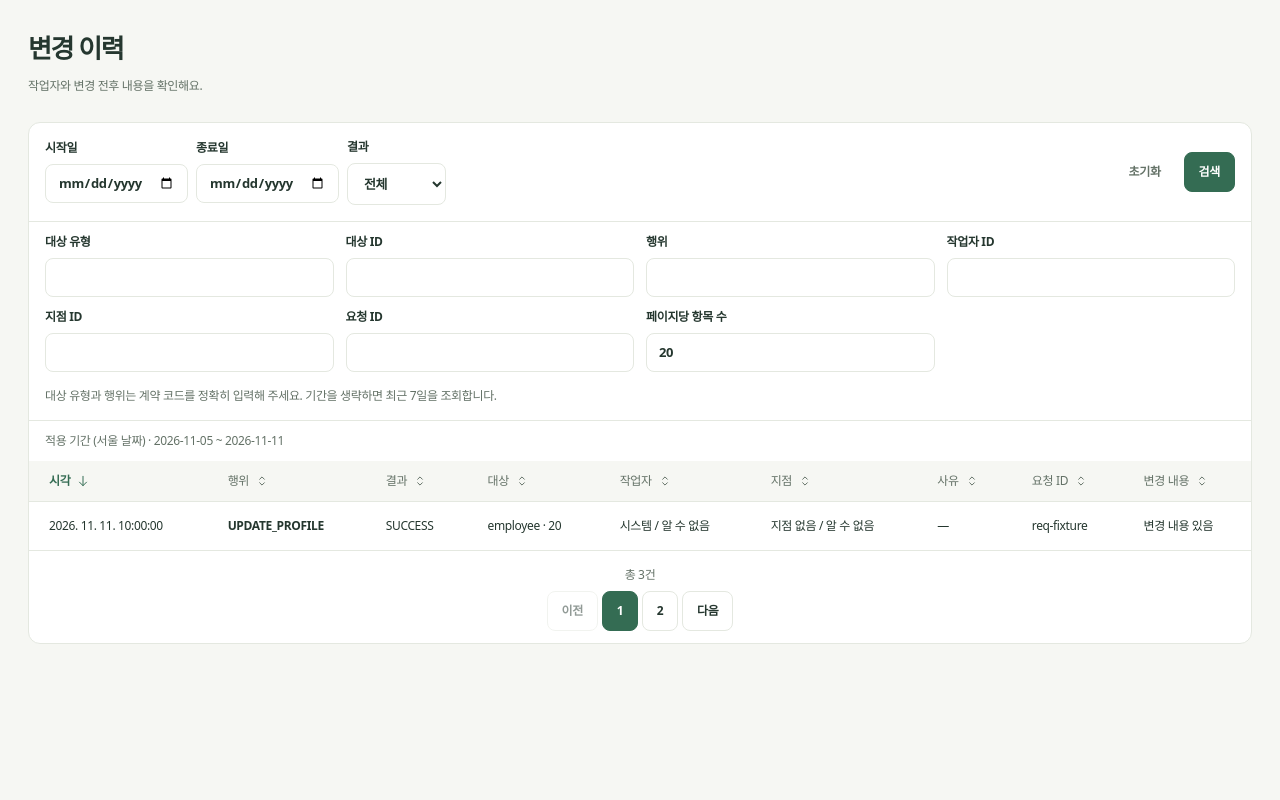
Test: validates long periods and dependent entity filters before sending a search
Expected: the text "변경 내용 있음" is shown, [1124,502,1251,550]
Type "2026-01-01" into the date field labelled "시작일" at (116, 184), box [45,164,188,203]
Type "2026-04-03" into the date field labelled "종료일" at (268, 184), box [196,164,339,203]
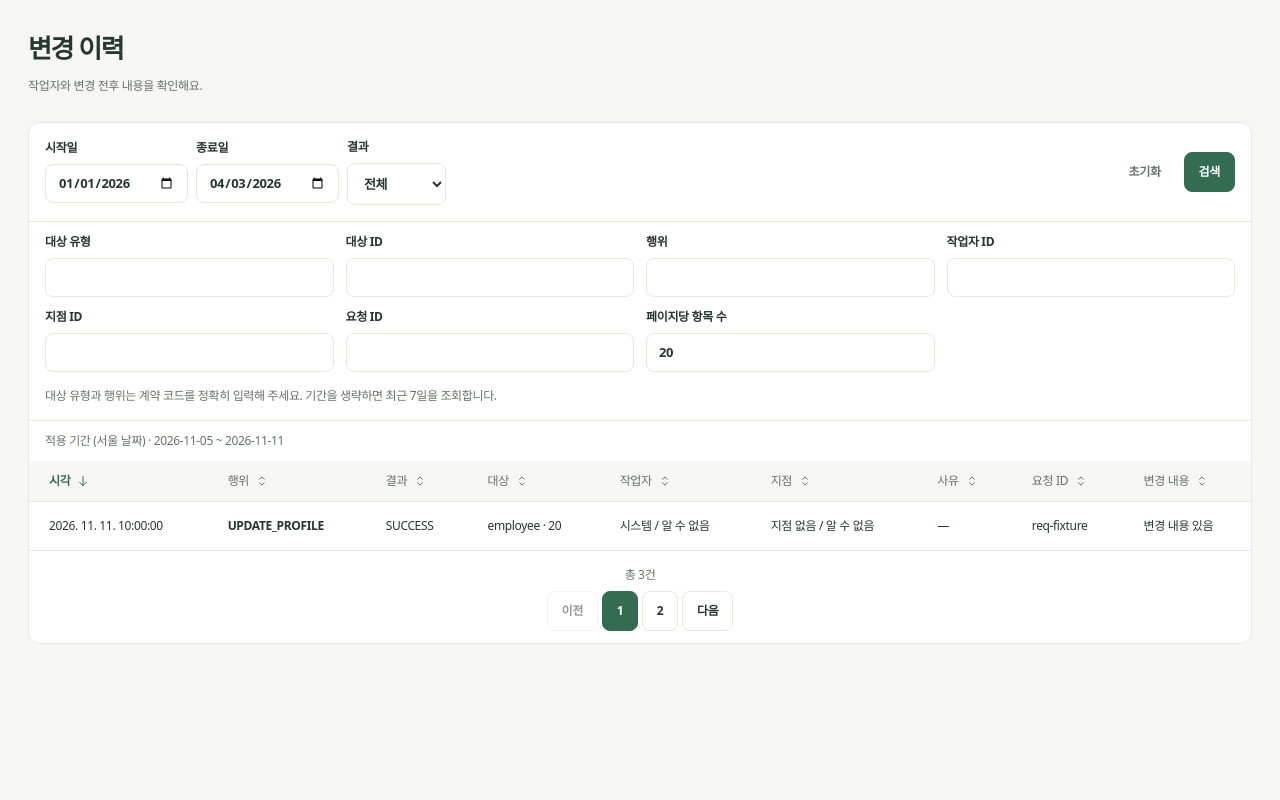
Click the button "검색" at (1209, 172), box [1184,152,1235,192]
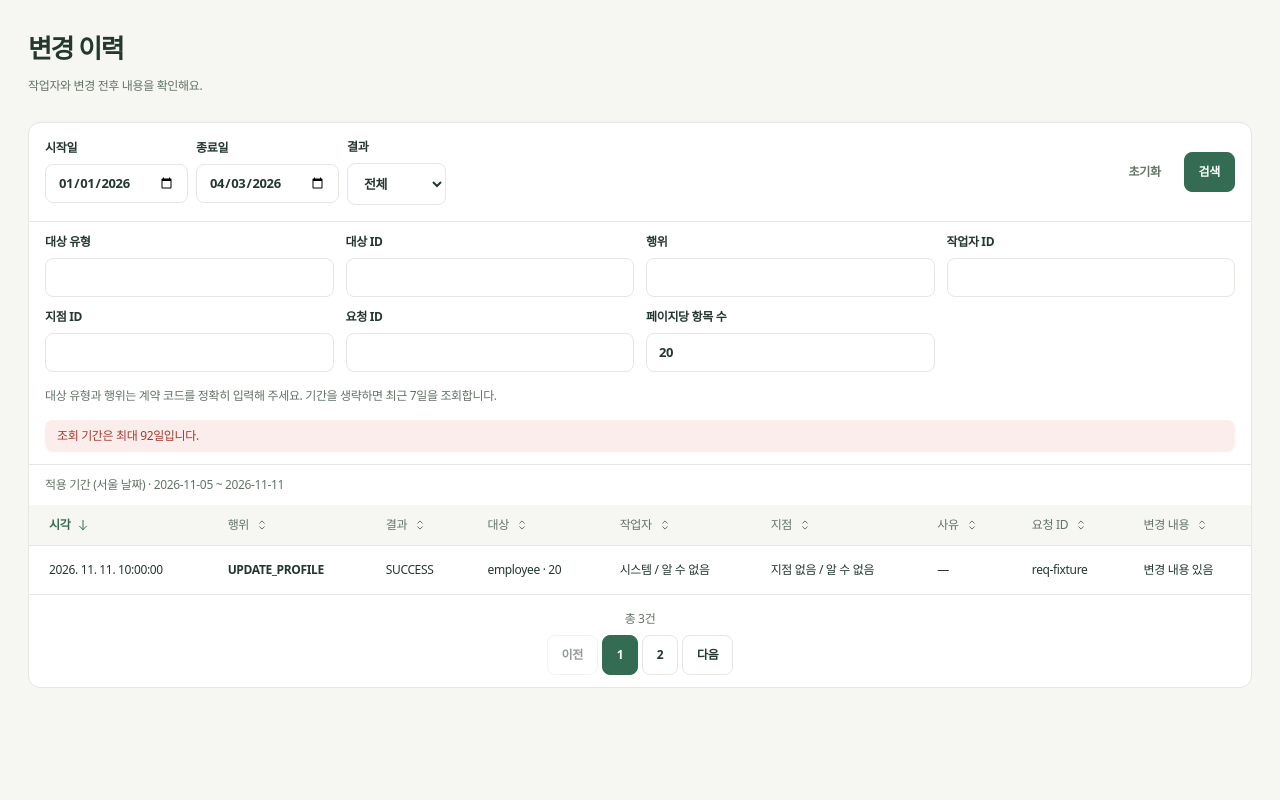
Now the message shows "92일", box [45,420,1235,452]
Clear the date field labelled "시작일" at (116, 184), box [45,164,188,203]
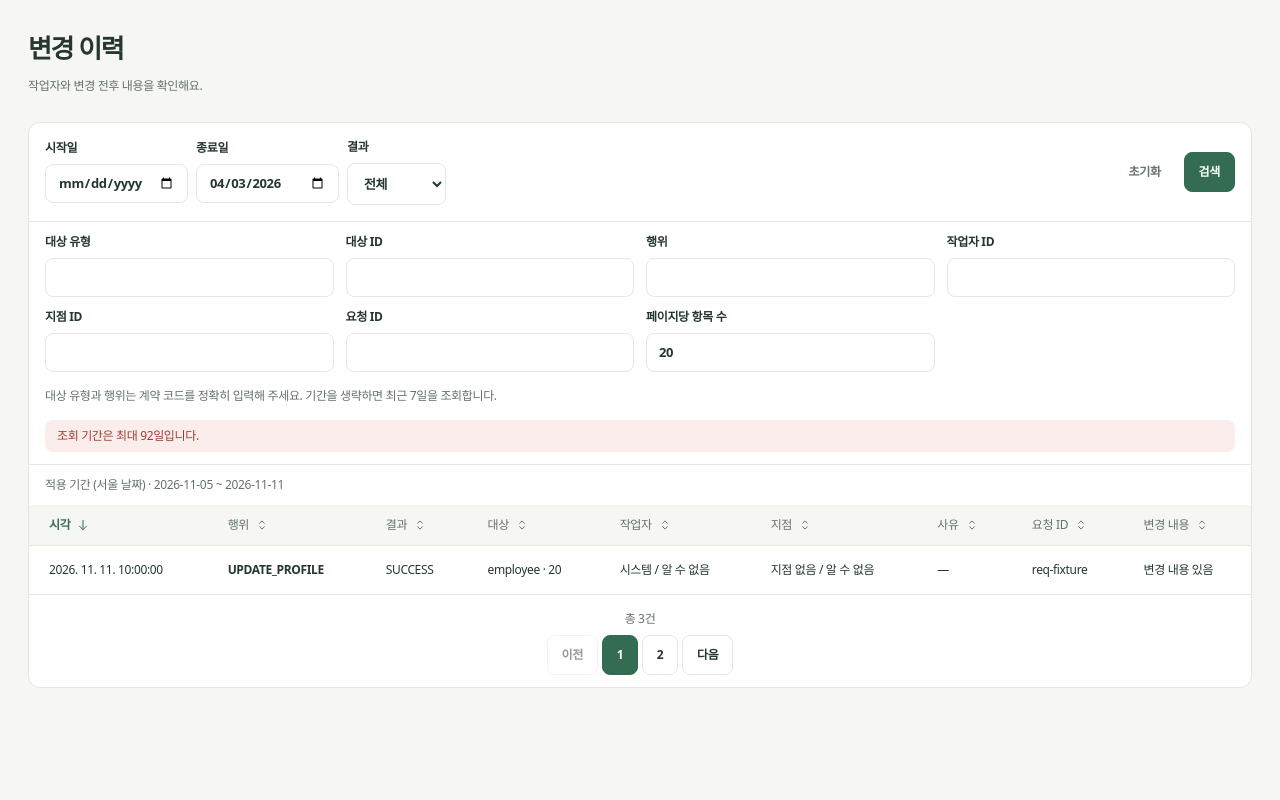
Clear the date field labelled "종료일" at (268, 184), box [196,164,339,203]
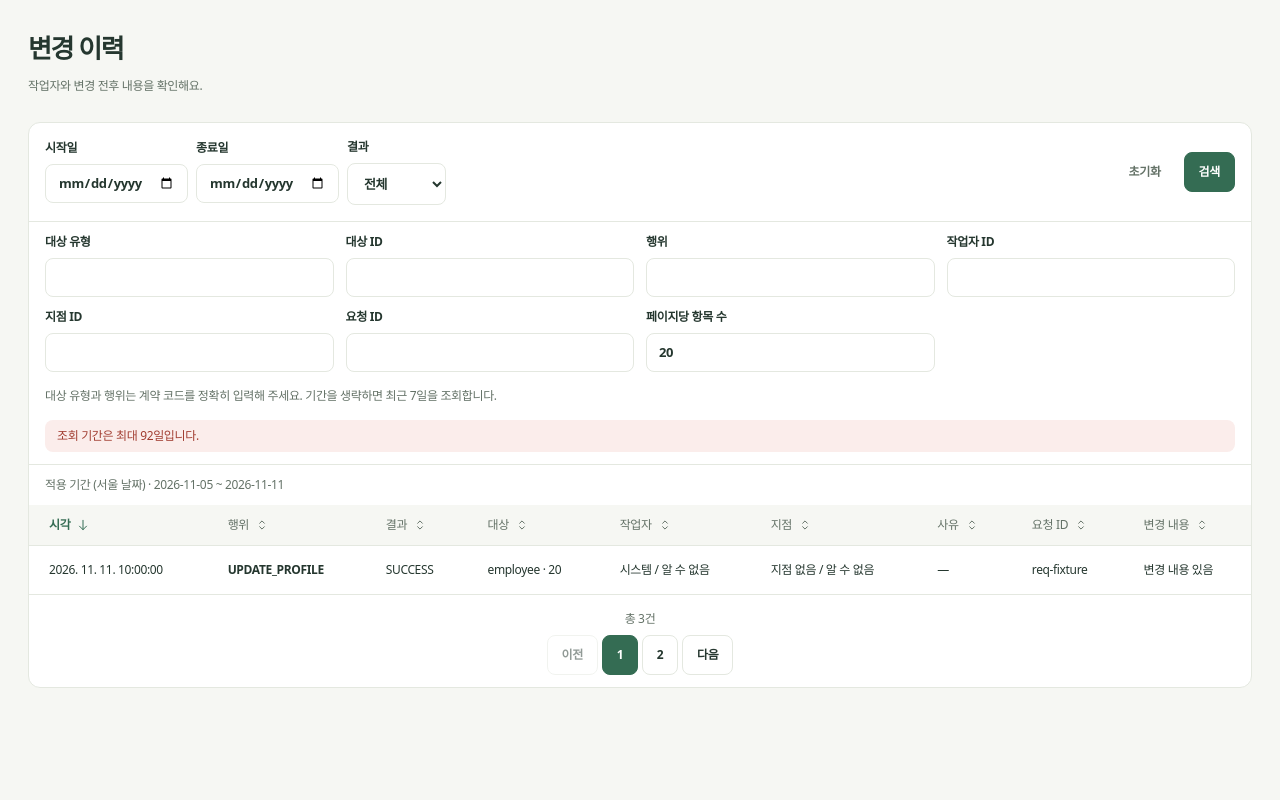
Type "20" into the field labelled "대상 ID" at (490, 277), box [346,258,634,297]
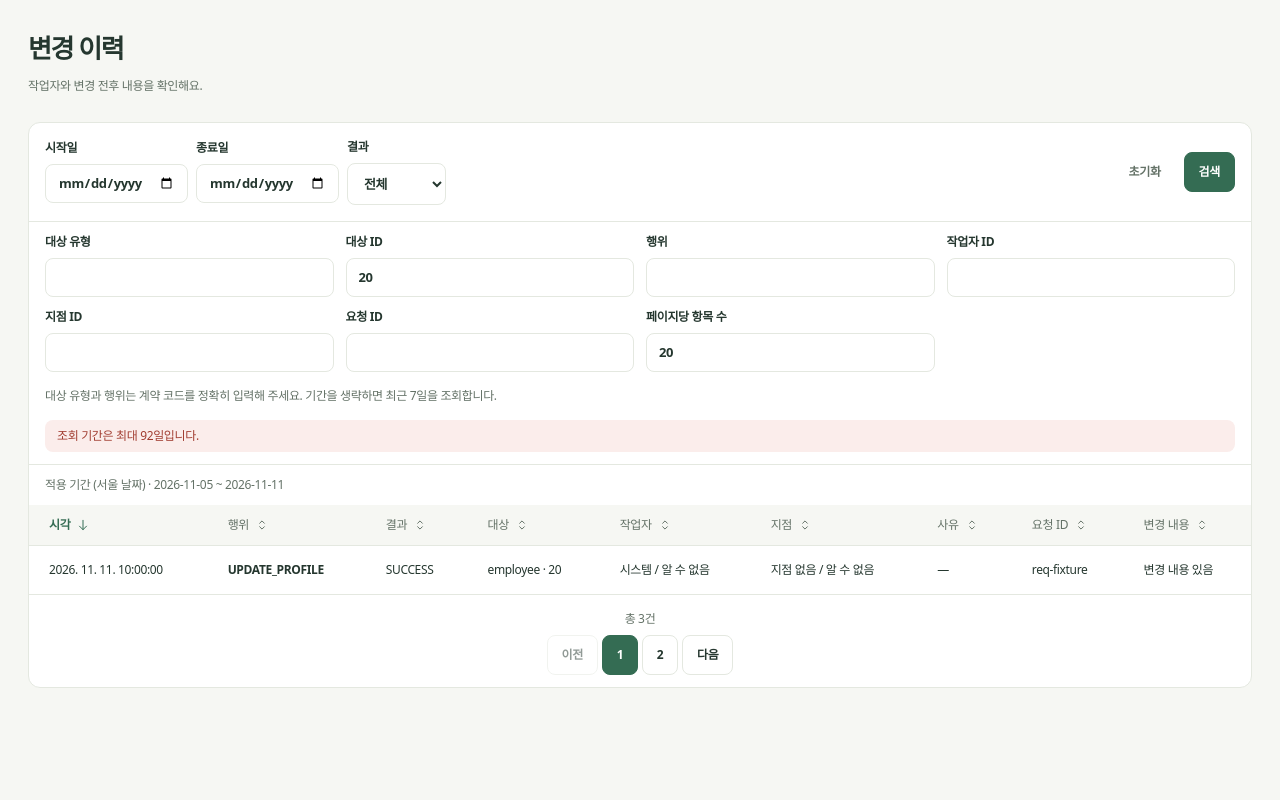
Click the button "검색" at (1209, 172), box [1184,152,1235,192]
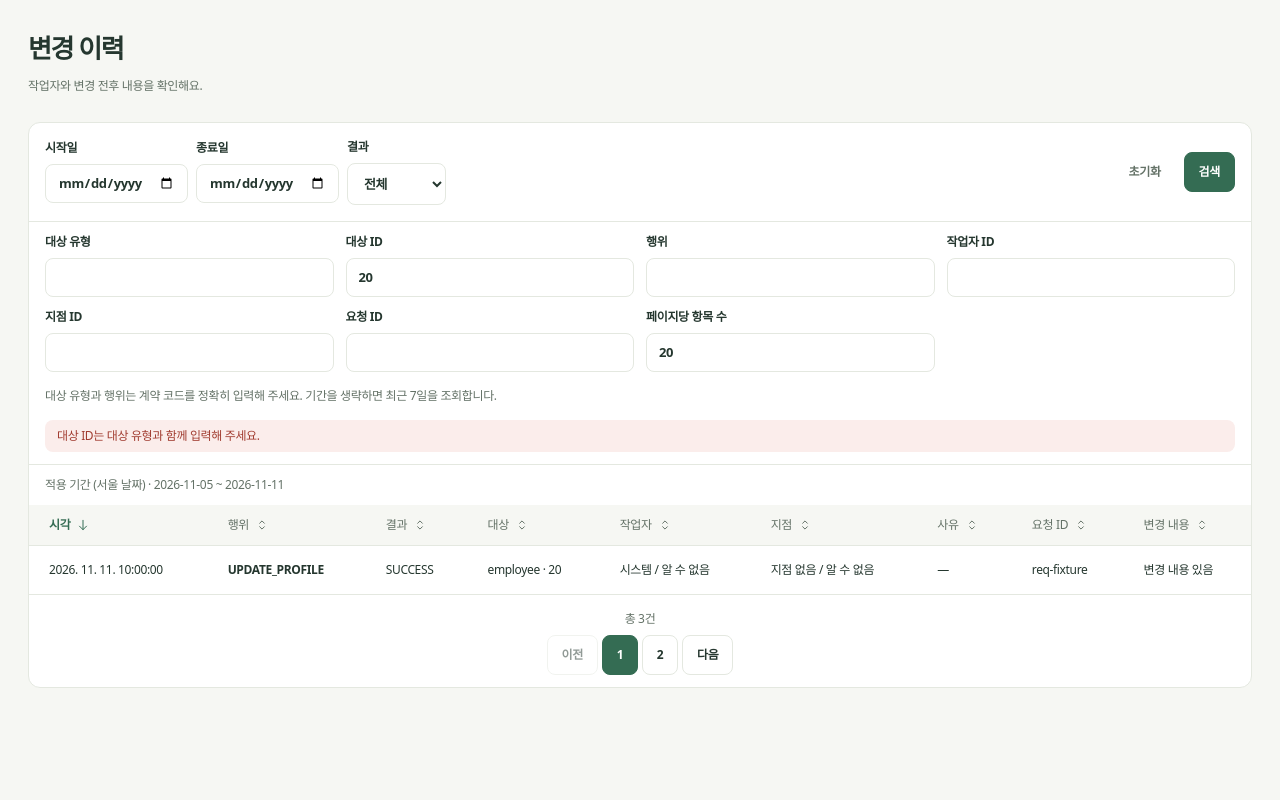
Now the message shows "대상 유형", box [57,427,260,444]
